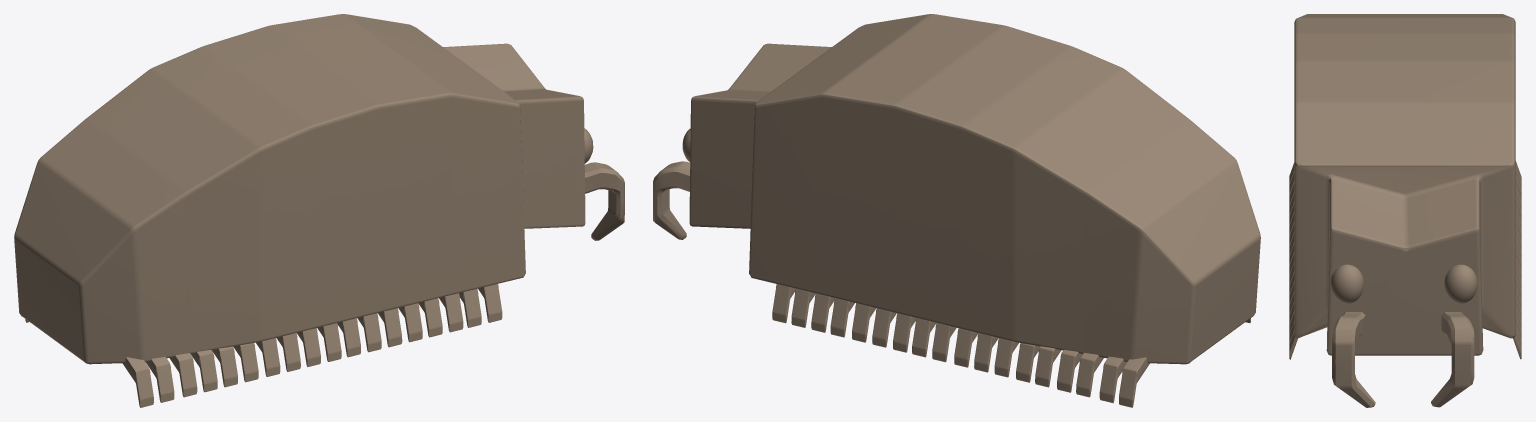
Rendered from Pillipede.fbx.
3 views of the same model, side by side, from view 1: azimuth 30°, elevation 25°; view 2: azimuth 150°, elevation 25°; view 3: azimuth 270°, elevation 25° (orthographic).
Visible parts, largest first — view 1: pCube1, polySurface2, pCube50, pCube51, pCube48, pCube49, pCube46, pCube47, pCube37, pCube39, pCube34, pCube44 (+8 smaller); view 2: pCube1, polySurface5, pCube69, pCube68, pCube67, pCube66, pCube64, pCube65, pCube54, pCube62, pCube63, pCube60 (+8 smaller); view 3: pCube1, polySurface5, polySurface2, polySurface4, polySurface6.
Part boxes in pixels (x1,y1,x2,y2): pCube1: (14, 14, 585, 364); polySurface2: (584, 162, 624, 240); pCube50: (122, 357, 153, 407); pCube51: (145, 357, 174, 402); pCube48: (169, 353, 197, 397); pCube49: (191, 350, 217, 392); pCube46: (212, 346, 237, 387); pCube47: (233, 343, 258, 382); pCube37: (439, 293, 463, 332); pCube39: (398, 303, 422, 342); pCube34: (478, 284, 502, 322); pCube44: (256, 338, 280, 376); pCube1: (689, 14, 1260, 364); polySurface5: (653, 161, 690, 239); pCube69: (1119, 357, 1149, 407); pCube68: (1099, 356, 1126, 403); pCube67: (1076, 352, 1103, 397); pCube66: (1057, 349, 1082, 392); pCube64: (1035, 346, 1061, 387); pCube65: (1016, 343, 1040, 382); pCube54: (830, 298, 854, 337); pCube62: (994, 338, 1018, 377); pCube63: (974, 333, 998, 372); pCube60: (954, 328, 978, 367); pCube1: (1294, 14, 1515, 355); polySurface5: (1431, 312, 1474, 407); polySurface2: (1332, 312, 1375, 407); polySurface4: (1330, 264, 1363, 303); polySurface6: (1444, 264, 1477, 303).
Bounding box in the file's own units: 2.82 × 1.2 × 1.05.
